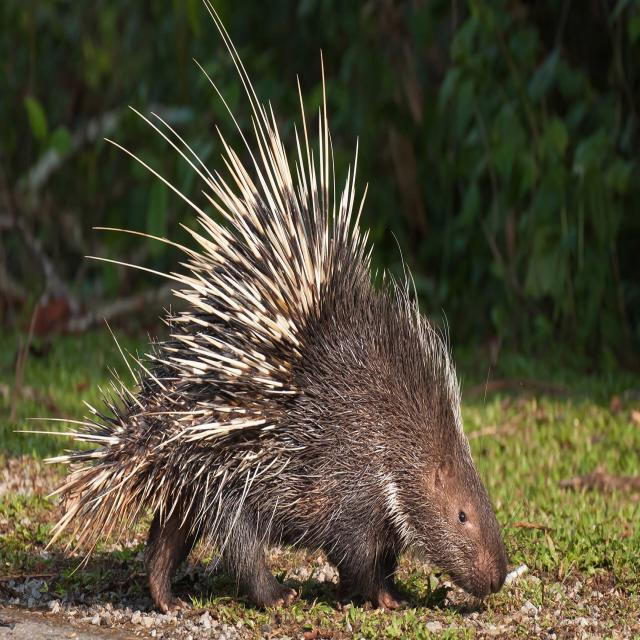porcupine: (46, 0, 507, 610)
